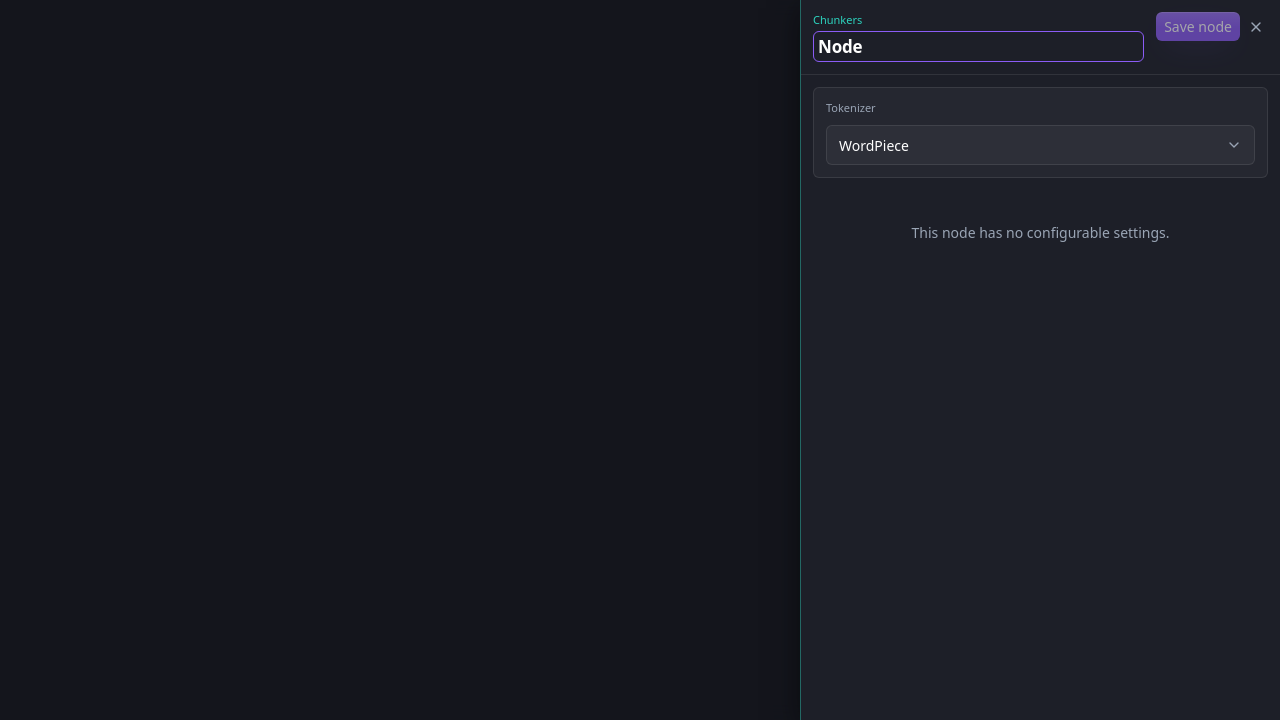
Test: NodeEditorDrawer › shows the HuggingFace model field only for the HuggingFace chunker tokenizer
Expected: the field labelled "HuggingFace model id" is not shown
Click the dropdown named "Tokenizer": (874, 146) [826,124,1255,165]
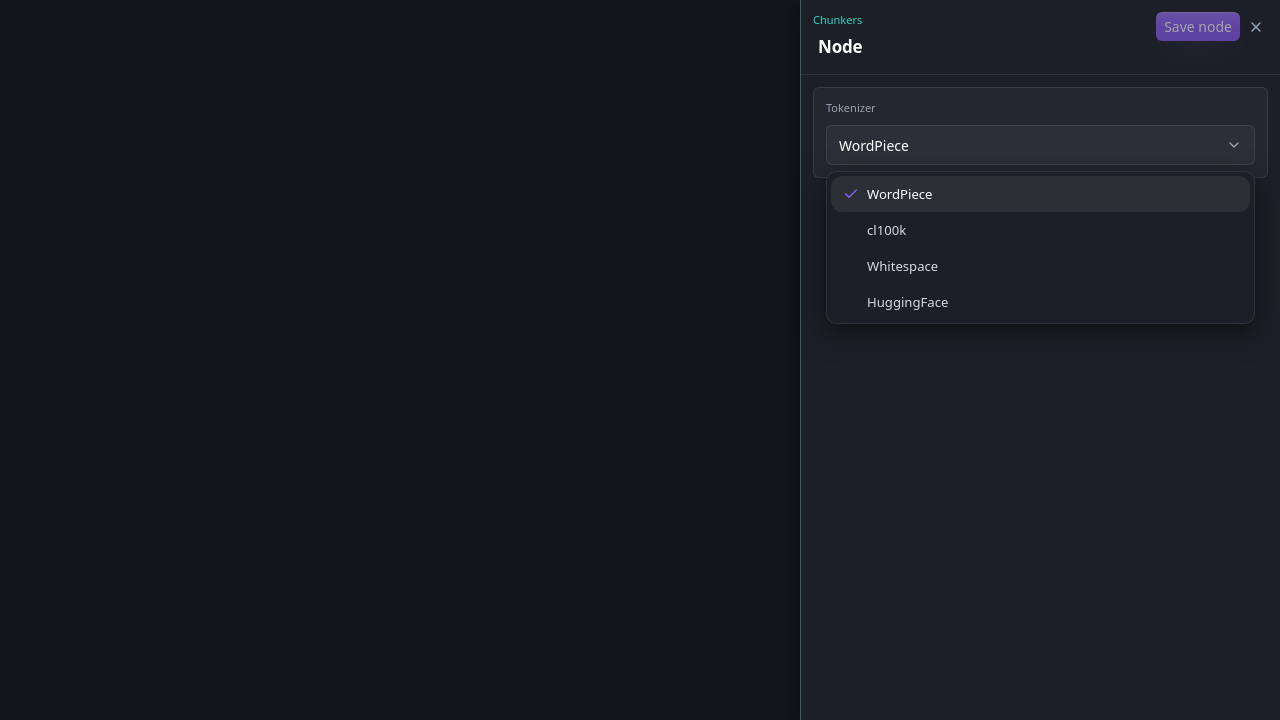
Click the option "HuggingFace": (908, 302) [867,293,948,311]
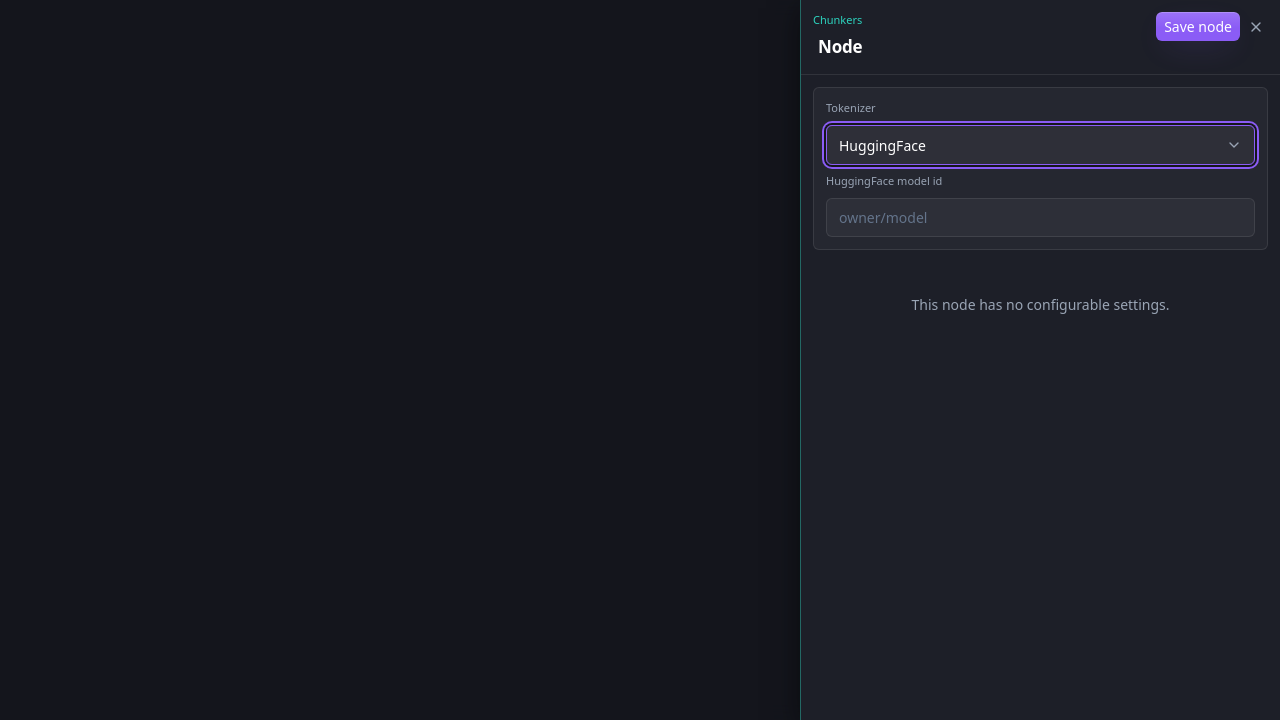
Result: the field labelled "HuggingFace model id" is shown at [826,198,1255,237]
